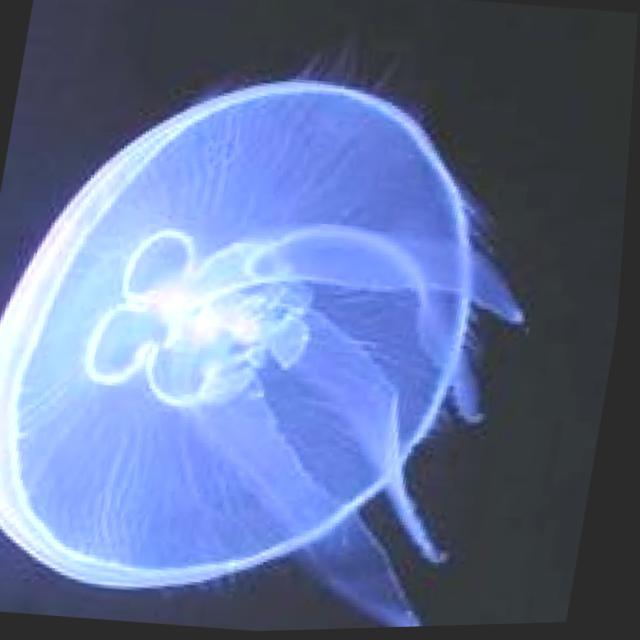Moon-jellyfish: (0, 40, 565, 640)
